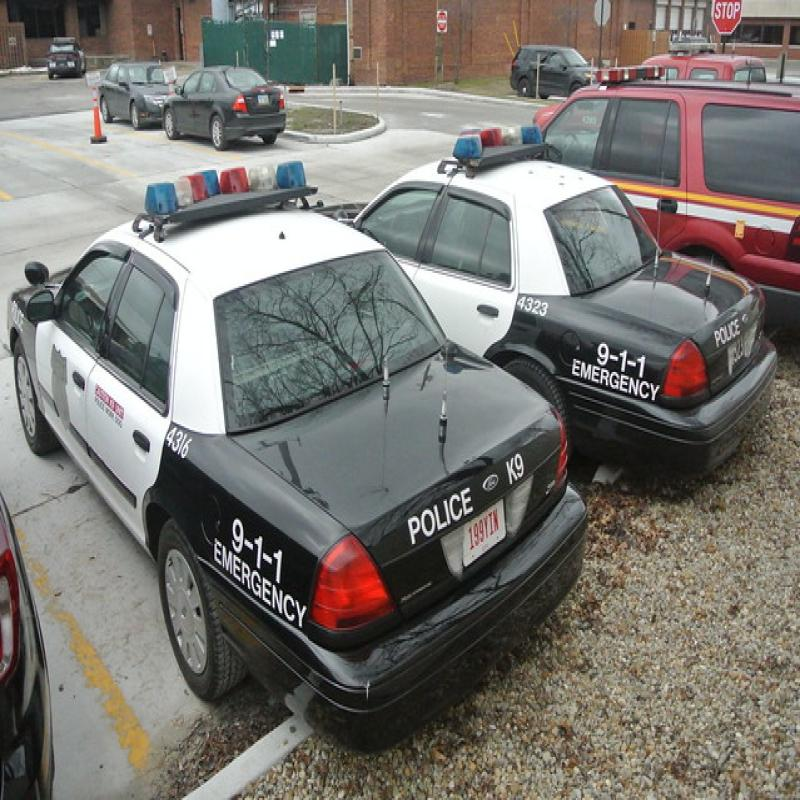AmbulanceSiren: (134, 126, 366, 241), (426, 94, 544, 179)
